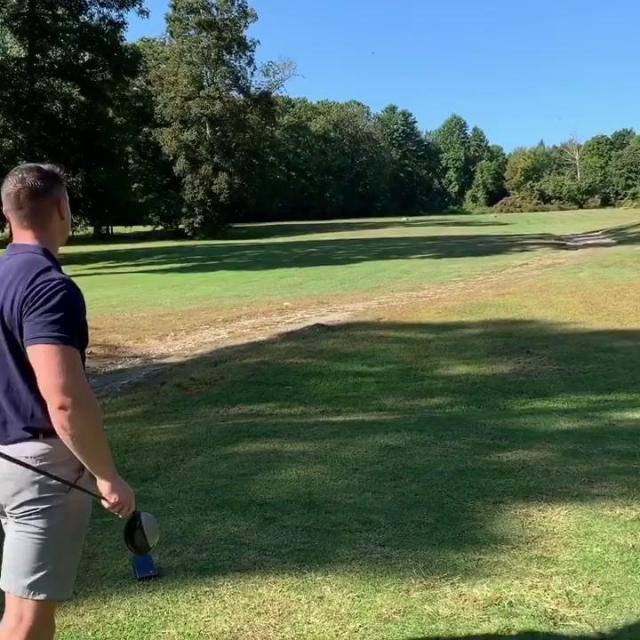ClubHead: (124, 512, 160, 555)
